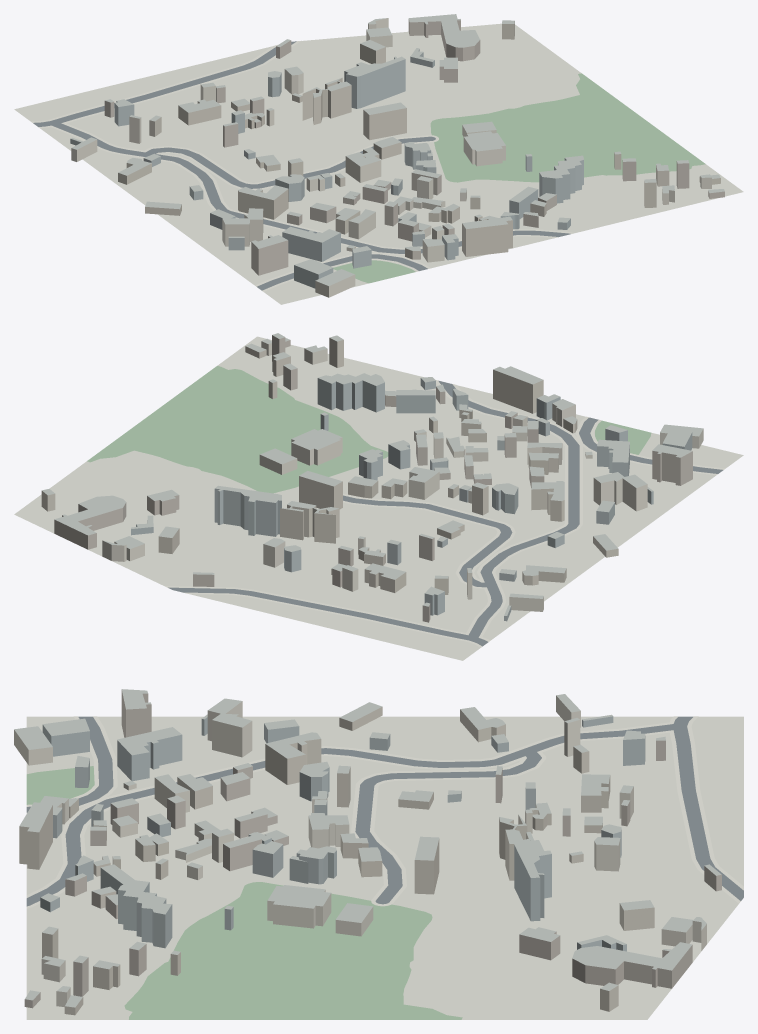
The picture shows the model from 3 angles, top to bottom: view 1: azimuth 30°, elevation 25°; view 2: azimuth 150°, elevation 25°; view 3: azimuth 270°, elevation 25°; orthographic projection. The views are drawn at different scales.
Visible parts, largest first — view 1: city; view 2: city; view 3: city.
Boxes of the visible parts, <box> form: city: <box>14,14,743,304</box>; city: <box>14,333,743,660</box>; city: <box>14,689,743,1019</box>.
Bounding box in the file's own units: 510 × 33.3 × 509.
